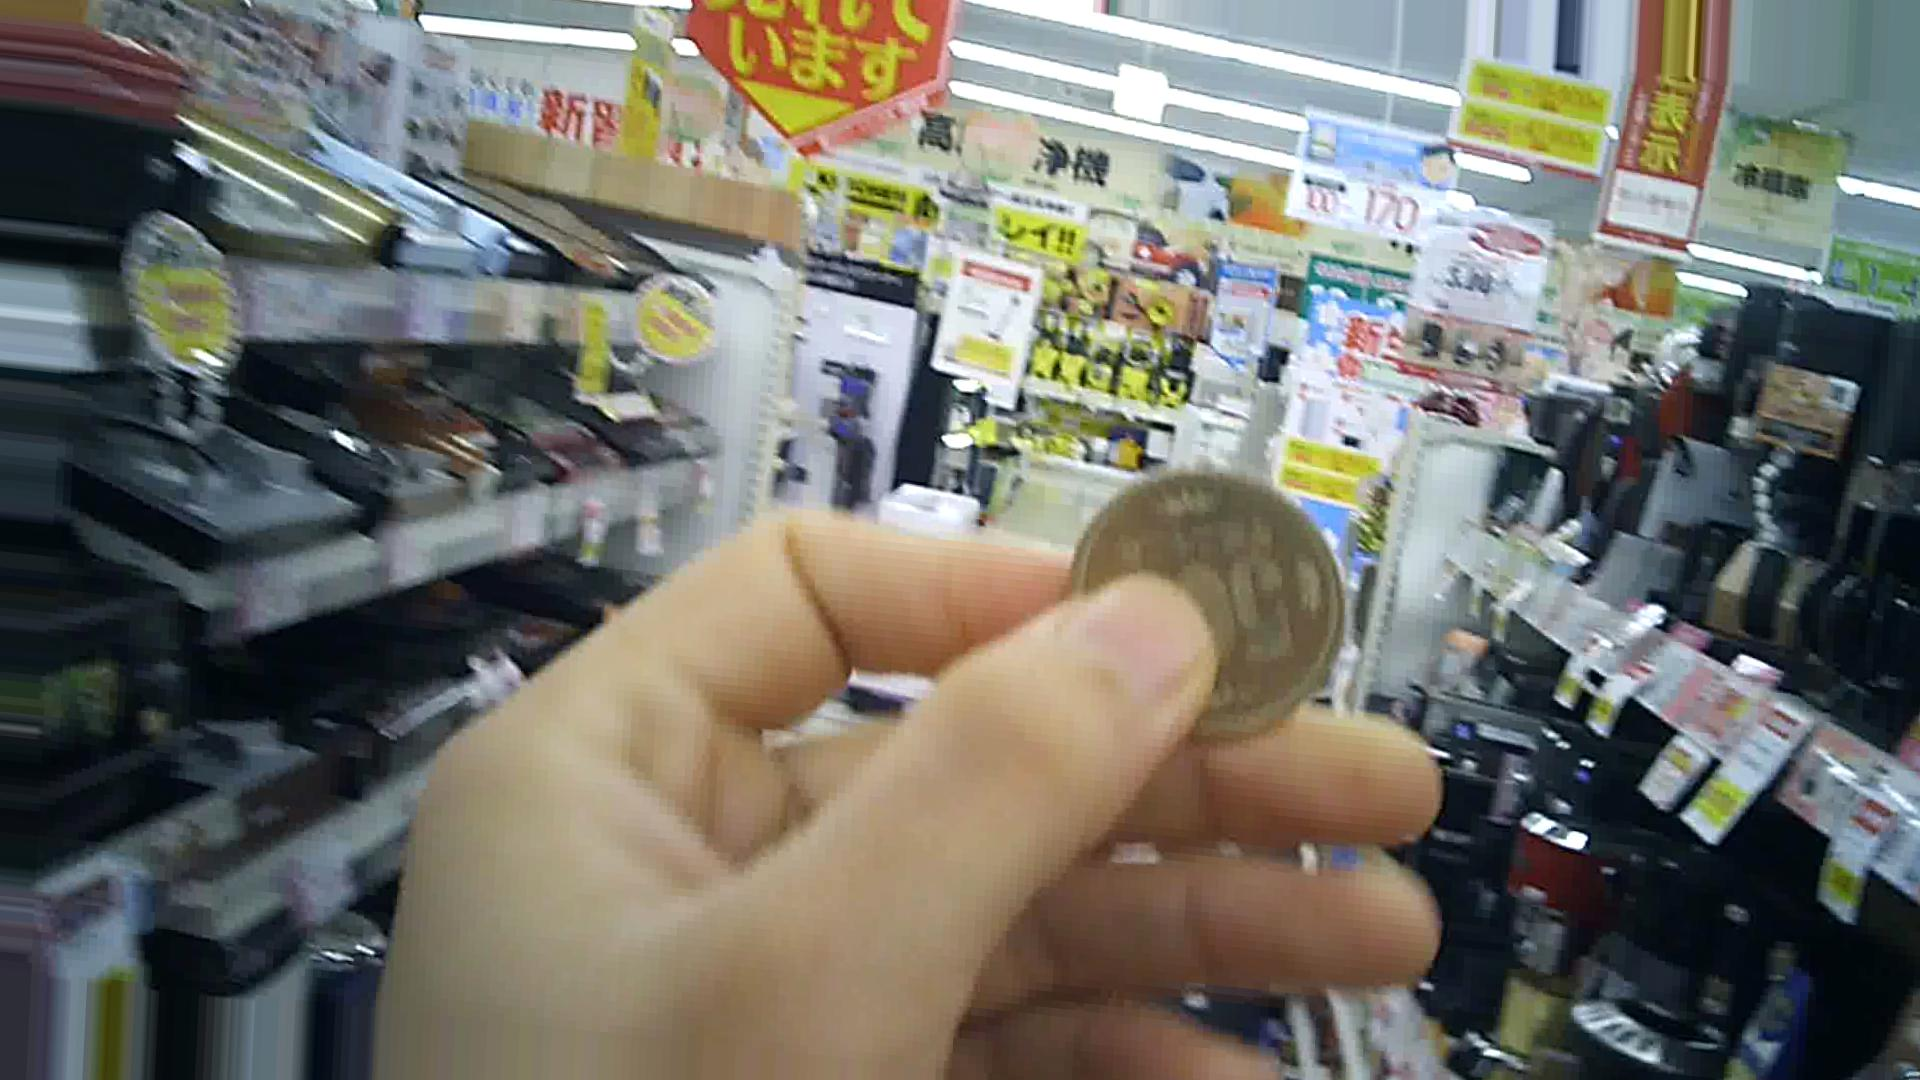500 Yen: (1073, 460, 1362, 756)
